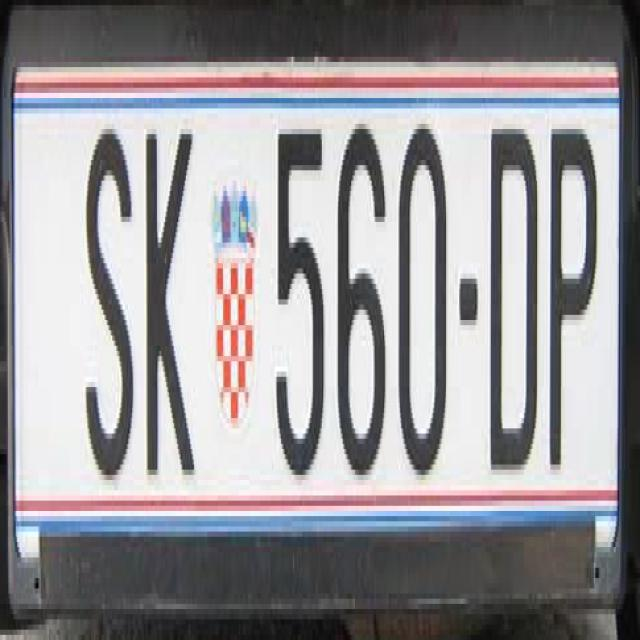Autre: (13, 80, 618, 511)
